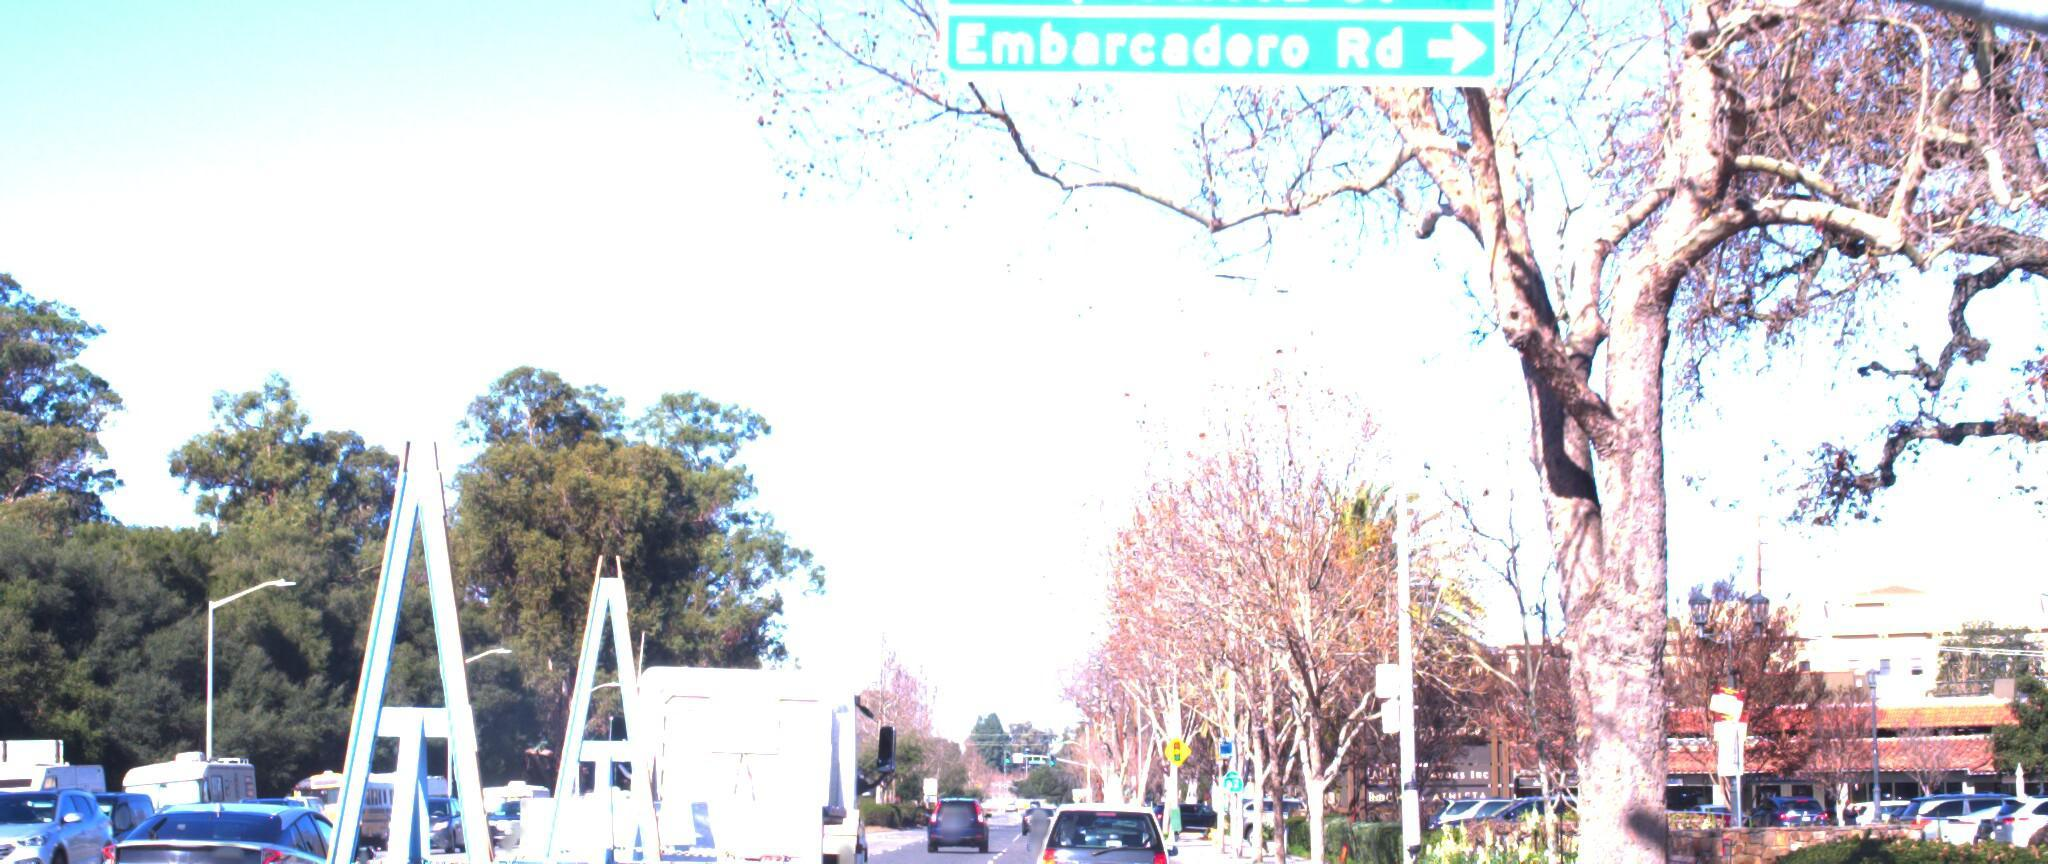car: (67, 783, 418, 864), (1028, 780, 1179, 864), (0, 782, 137, 864)
other_vehicle: (0, 736, 136, 857)
truck: (60, 315, 916, 864)
